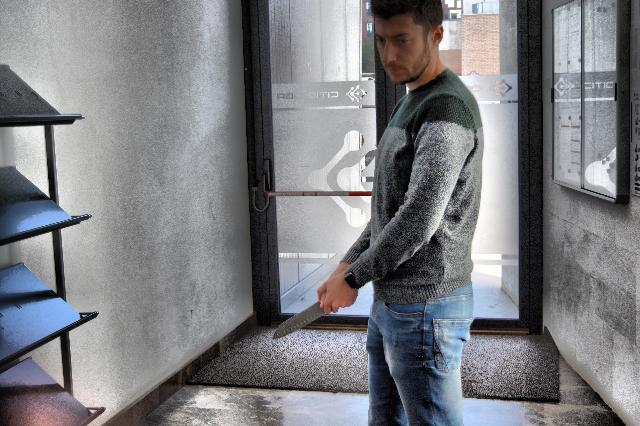knife: (270, 294, 334, 342)
